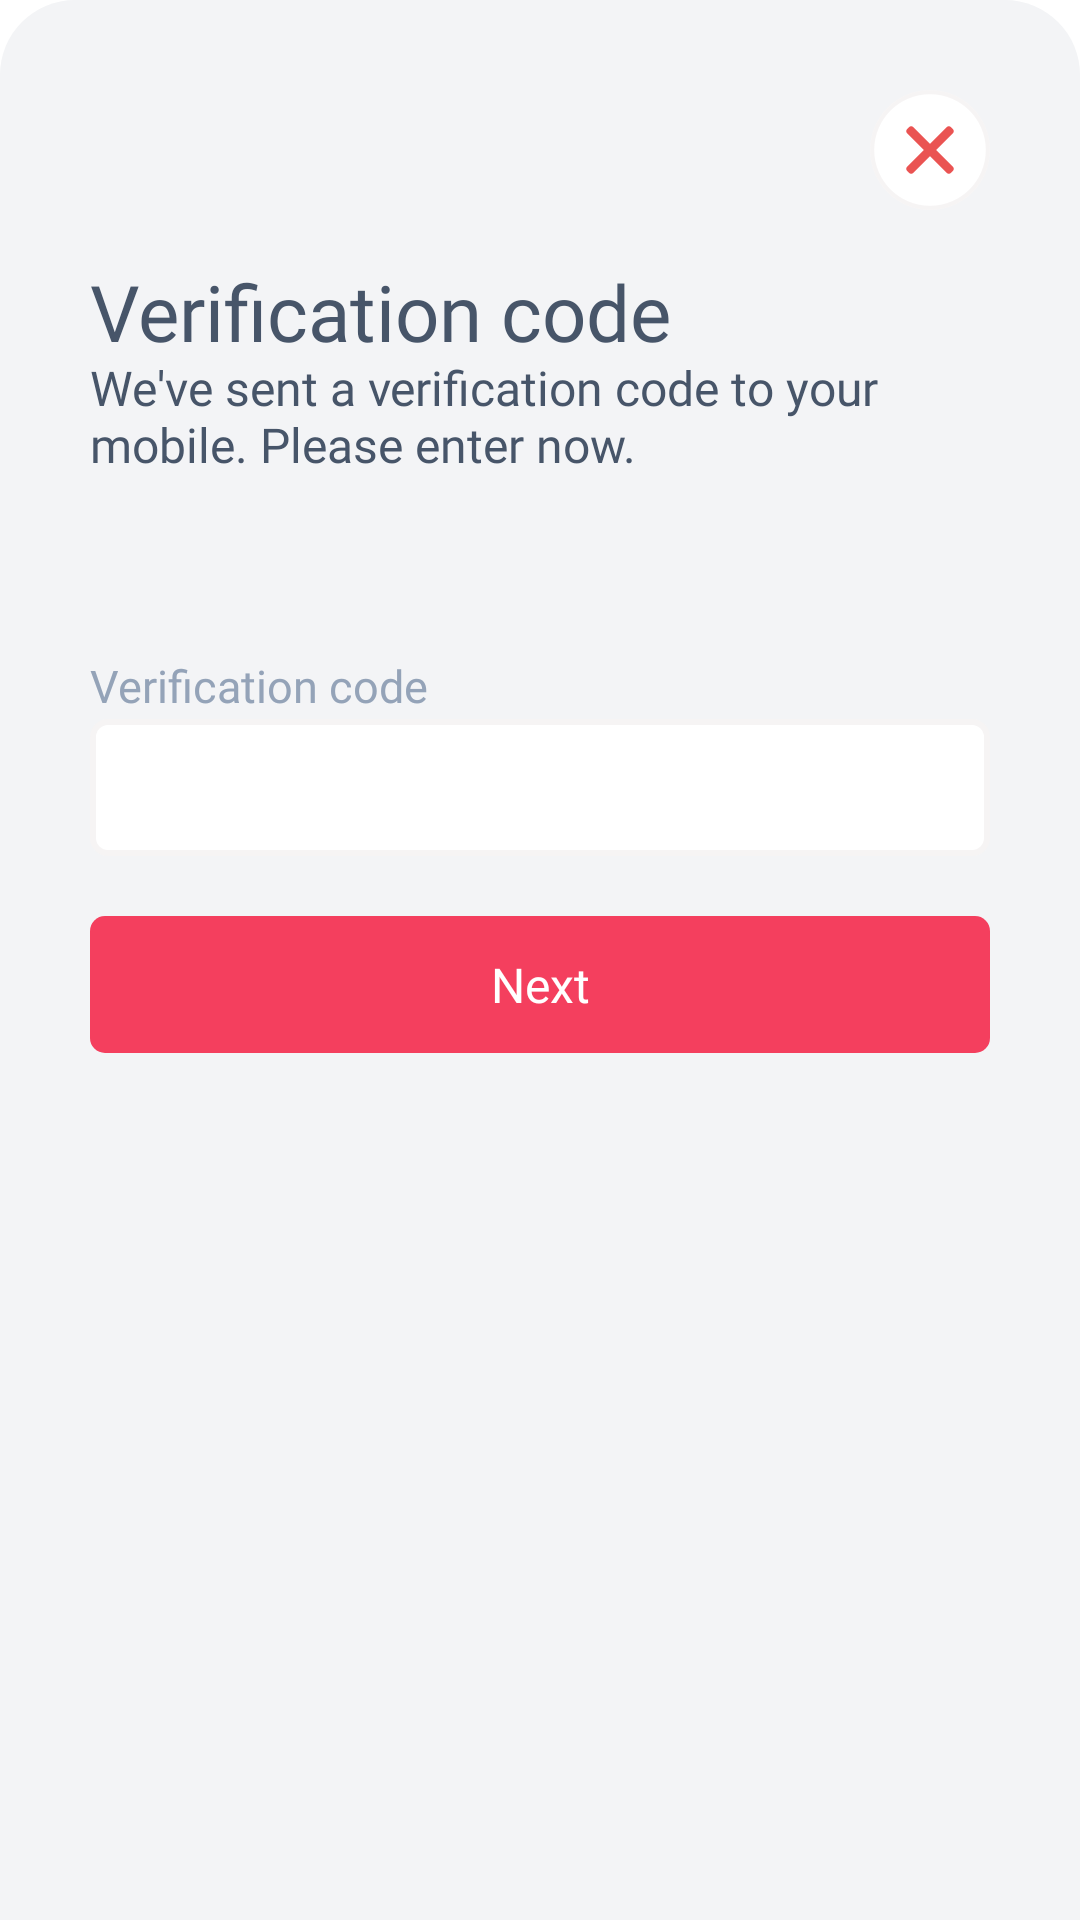

Icon click points for this 1080*1920 phone screenshot, format (x=x, y=y):
close: (x=930, y=150)
